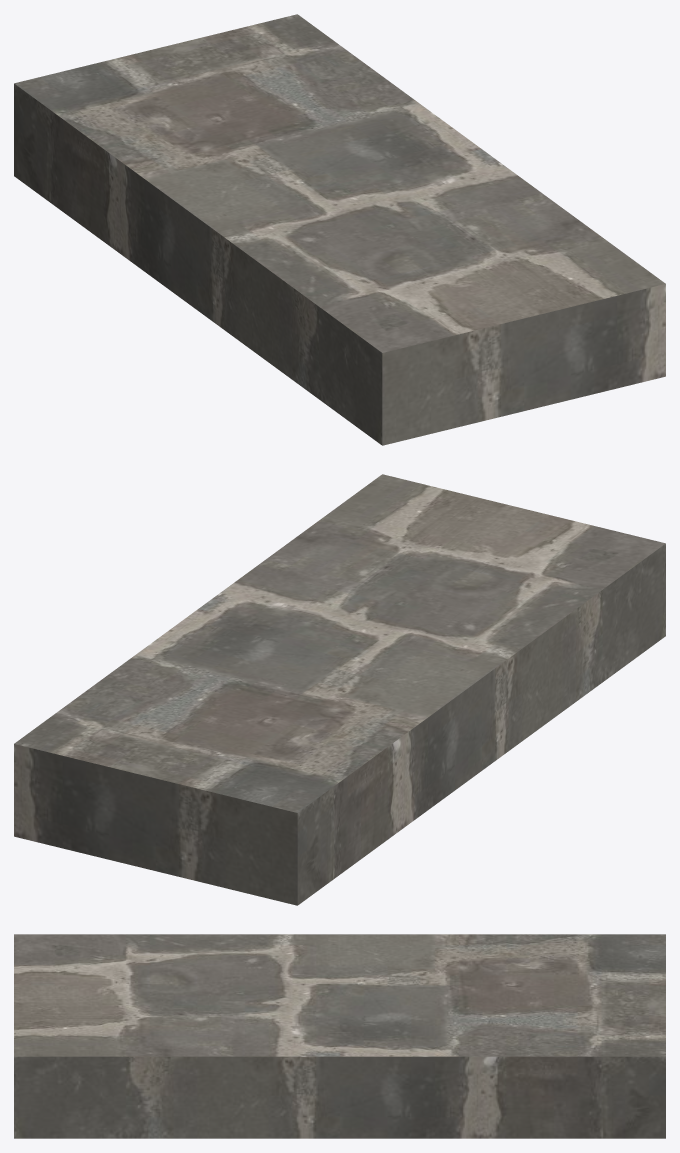
Rendered from flagstone_threshold.glb.
The picture shows the model from 3 angles, top to bottom: view 1: azimuth 30°, elevation 25°; view 2: azimuth 150°, elevation 25°; view 3: azimuth 270°, elevation 25°; orthographic projection. The views are drawn at different scales.
Visible parts, largest first — view 1: Deep flagstone threshold; view 2: Deep flagstone threshold; view 3: Deep flagstone threshold.
Part boxes in pixels (x1,y1,x2,y2): Deep flagstone threshold: (14,14,665,445); Deep flagstone threshold: (14,474,665,905); Deep flagstone threshold: (14,934,665,1138).
Size of the model in its own units: 0.8 by 0.25 by 1.8.
Materials: 1 (1 with a texture image).
